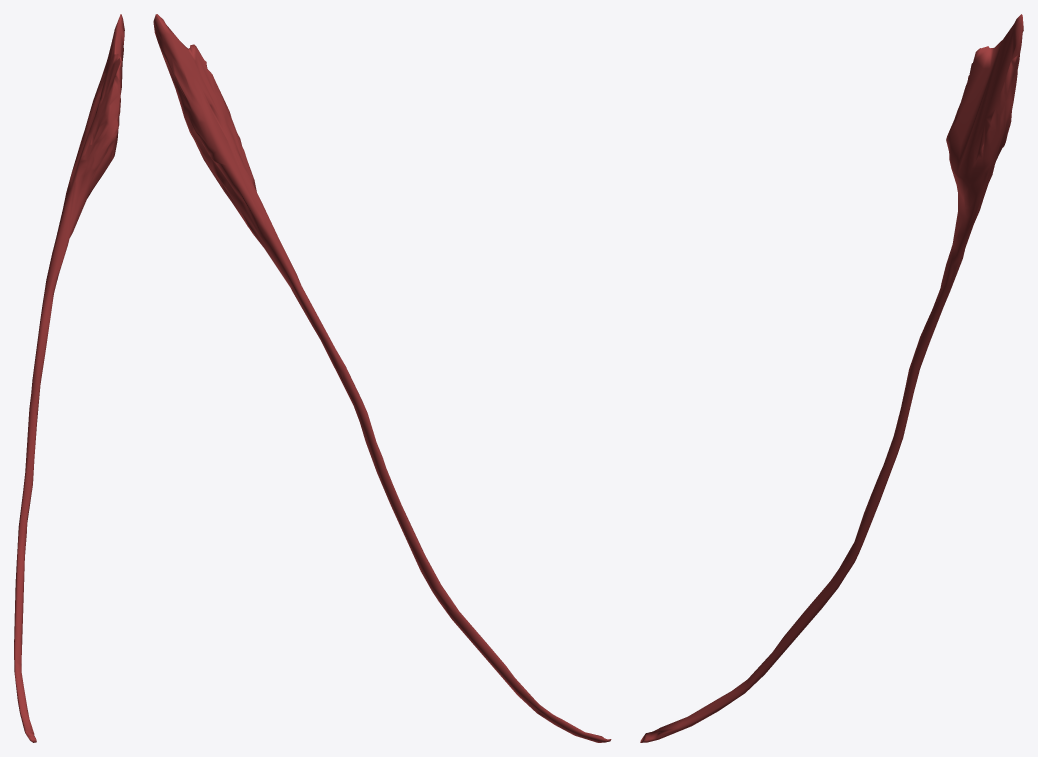
The model's file is extensor-indicis-r.glb.
The picture shows the model from 3 angles, left to right: view 1: azimuth 30°, elevation 25°; view 2: azimuth 150°, elevation 25°; view 3: azimuth 270°, elevation 25°; orthographic projection. The views are drawn at different scales.
Parts seen in each view (by area): view 1: Extensor indicis.r; view 2: Extensor indicis.r; view 3: Extensor indicis.r.
Part boxes in pixels (x1=…): Extensor indicis.r: x1=14, y1=14, x2=124, y2=742; Extensor indicis.r: x1=153, y1=14, x2=611, y2=742; Extensor indicis.r: x1=640, y1=14, x2=1023, y2=742.
Size of the model in its own units: 0.0807 by 0.206 by 0.0811.
